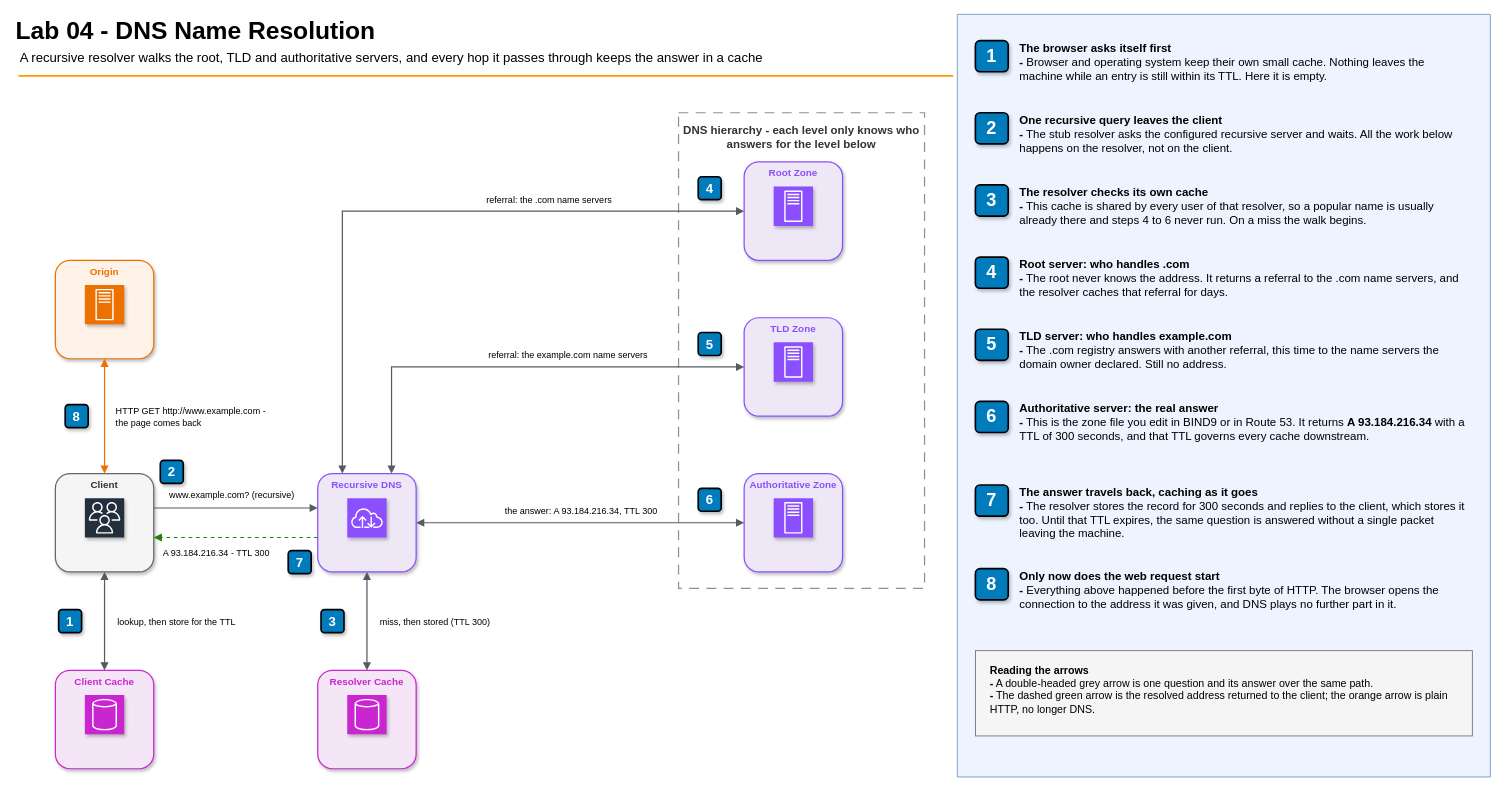
Some shapes in this 1505 by 791 pixel diagram are drawn without their labels. Here are the shapes that lost their labels. From the top down, the centre of each, then its label:
the point at 794,207: Root server (.) 13 names, anycast
the point at 105,305: Web server 93.184.216.34
the point at 794,362: TLD server (.com) gTLD registry
the point at 105,518: End user browser or dig
the point at 367,518: Resolver ISP, 8.8.8.8, 1.1.1.1
the point at 794,518: example.com BIND9 or Route 53
the point at 105,715: Stub cache browser and OS
the point at 367,715: Shared cache one copy, many users
